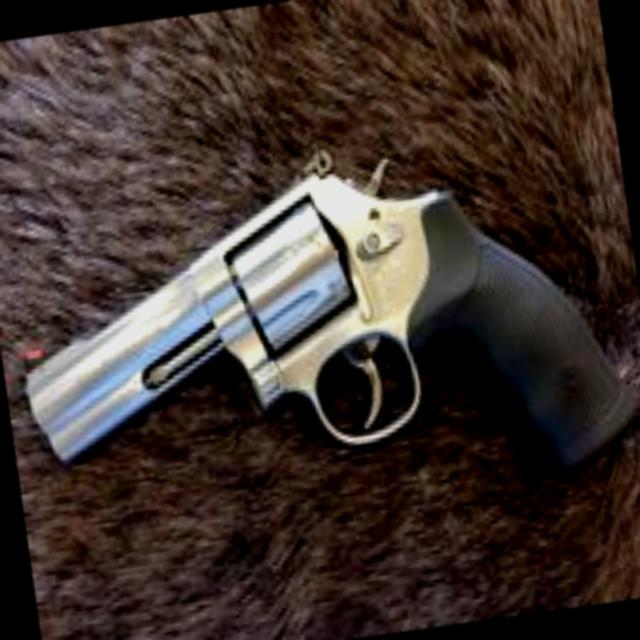revolver: (0, 89, 640, 577), (0, 91, 640, 575), (0, 43, 144, 256)
